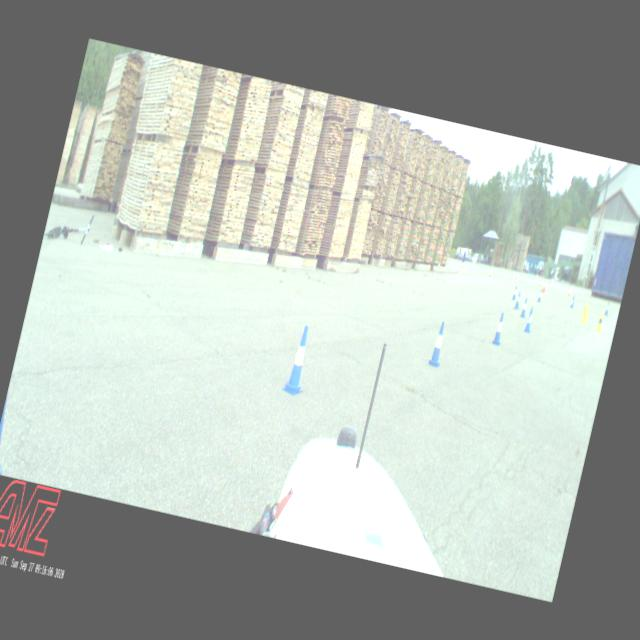blue_cone: (280, 323, 316, 396), (426, 320, 449, 368), (492, 312, 506, 344), (523, 306, 535, 332), (520, 296, 528, 317), (514, 290, 522, 308), (512, 285, 518, 299), (569, 294, 575, 308), (536, 288, 542, 302), (604, 302, 610, 315)
orange_cone: (542, 280, 546, 292), (568, 287, 572, 296), (539, 278, 543, 287), (488, 268, 492, 276), (461, 262, 465, 269), (515, 271, 519, 278)
yellow_cone: (596, 312, 604, 332), (582, 306, 590, 322), (582, 302, 587, 316)
